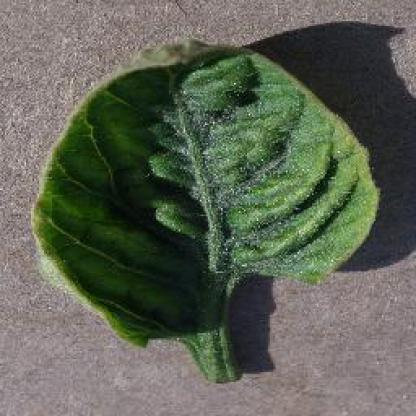bad leaf: (43, 128, 227, 348), (266, 86, 392, 279), (138, 48, 284, 175), (141, 179, 275, 293), (151, 122, 267, 250), (90, 64, 174, 229)
